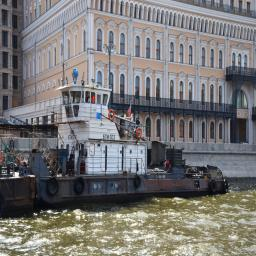tugboat: (2, 63, 232, 214)
